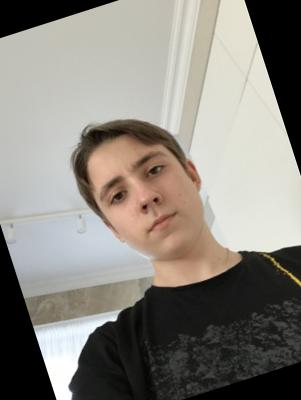without_mask: (85, 138, 217, 278)
